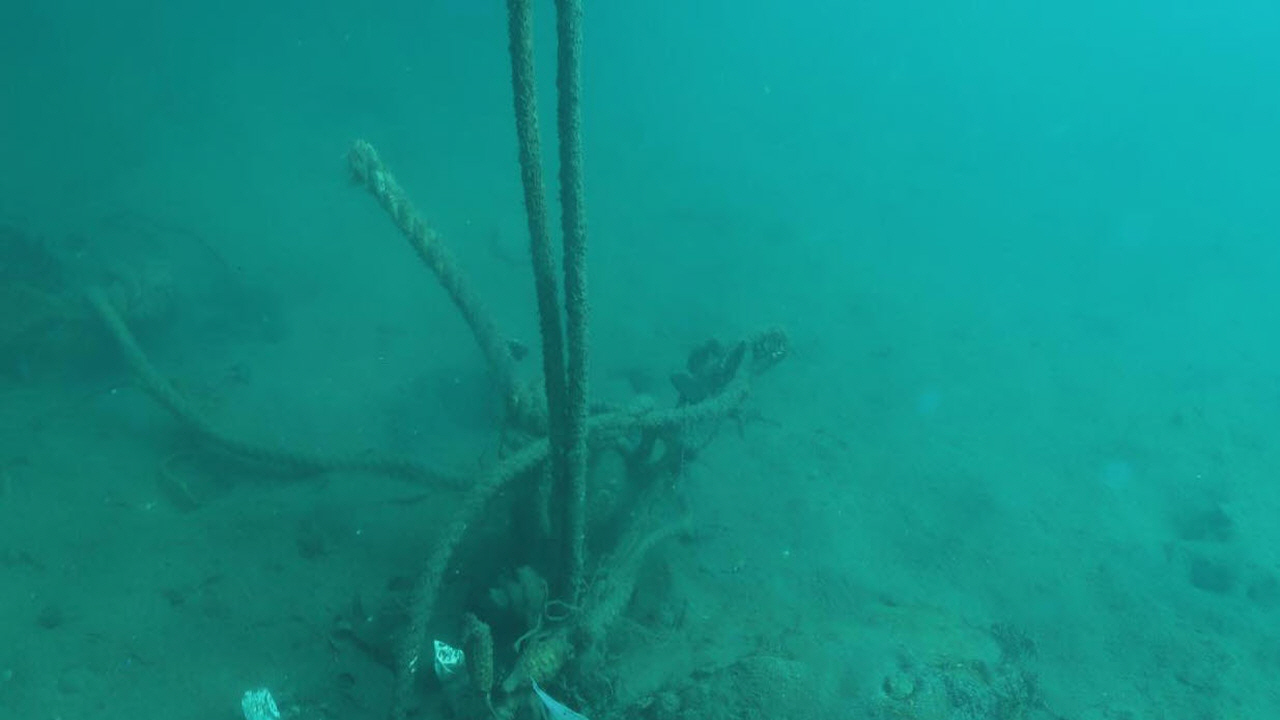bundle of ropes: (79, 0, 771, 720)
